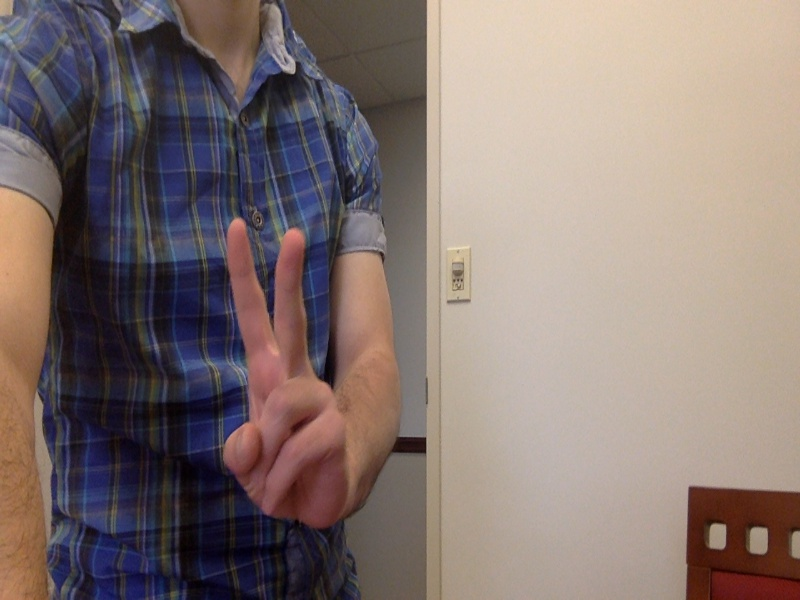2-hand: (209, 218, 344, 533)
